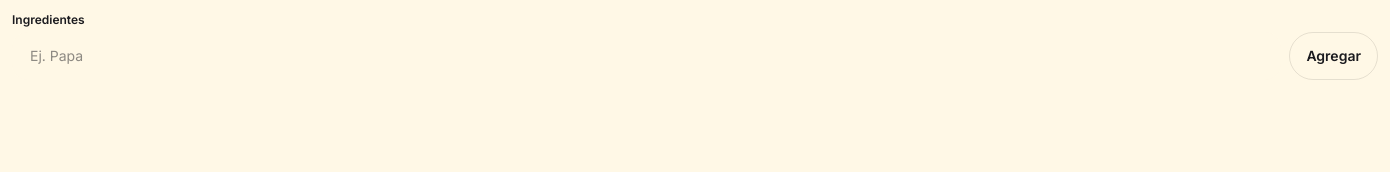
Test case: adds a chip when clicking Agregar
The image size is (1390, 172).
Type "Cebolla" into the field labelled "Ingredientes" at (647, 56), box [12,32,1281,80]
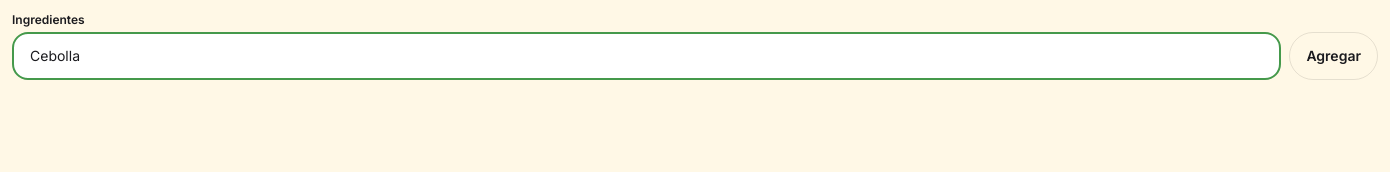
Click the button "Agregar" at (1334, 56), box [1289,32,1378,80]
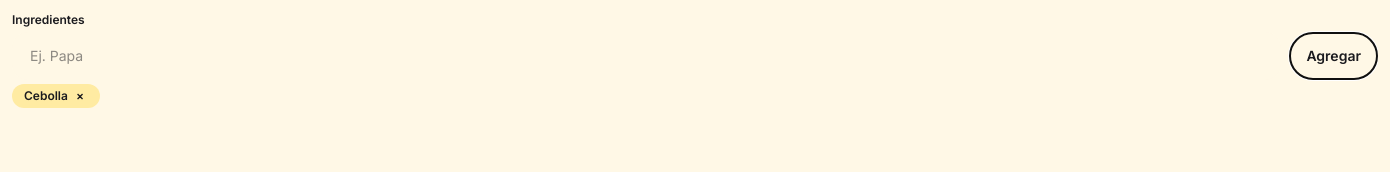
Expected: the list item "Cebolla" is shown, [24,88,68,103]
